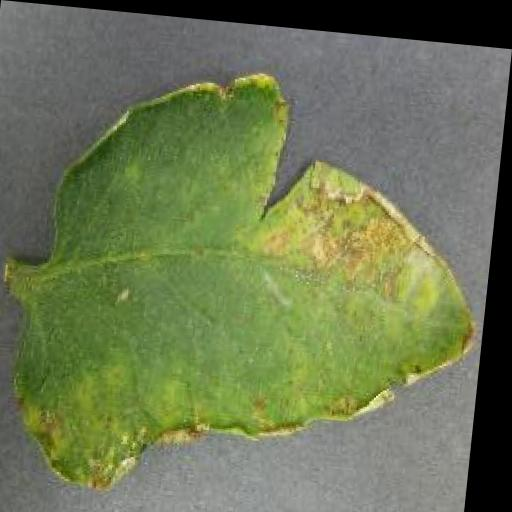Bacterial Spot: (0, 35, 504, 512)
